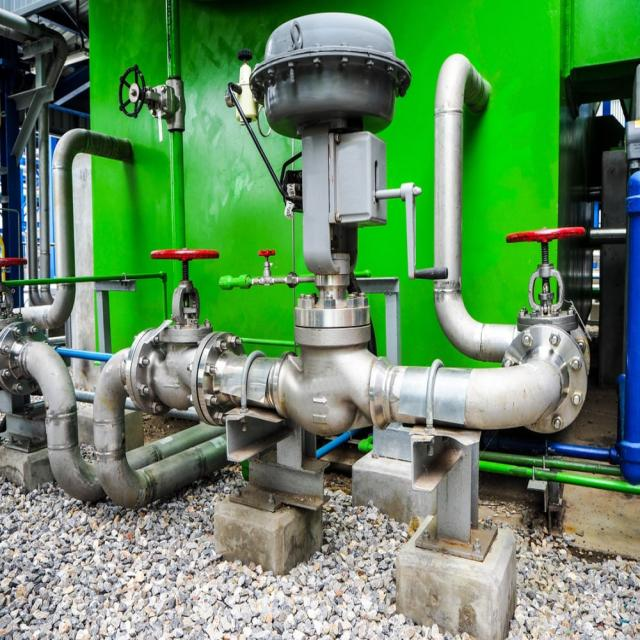Wheel Handle Valve Threaded: (510, 229, 590, 272), (134, 236, 229, 270), (258, 248, 276, 288)
